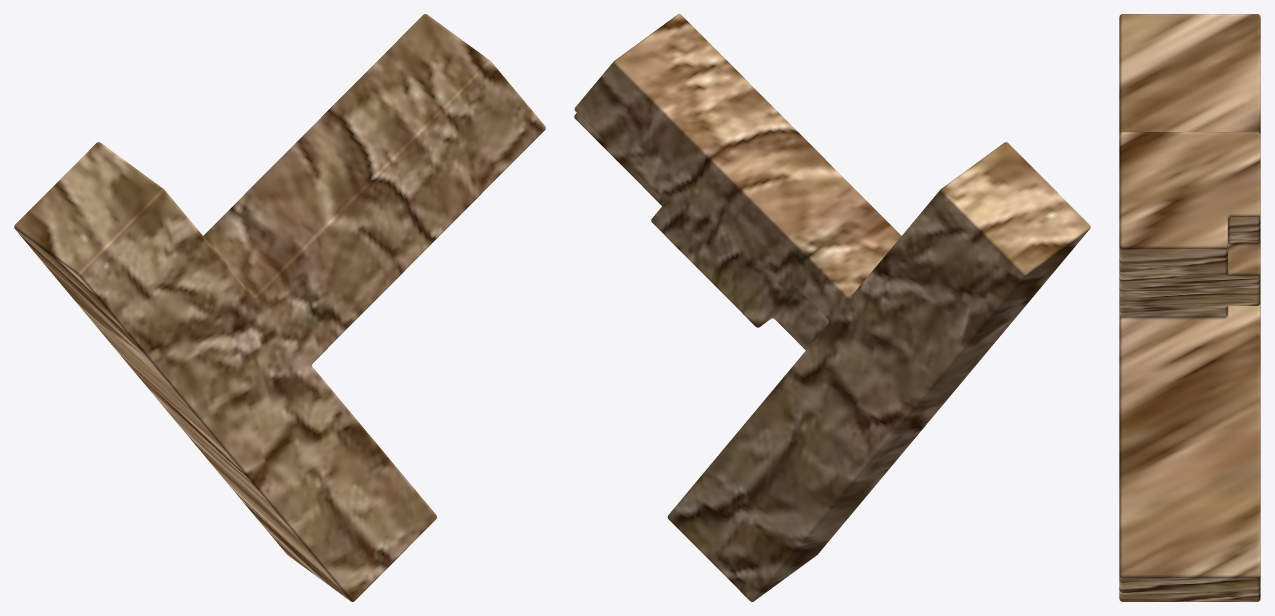
The model's file is MiralmonteGordo.obj.
3 views of the same model, side by side, from view 1: azimuth 30°, elevation 25°; view 2: azimuth 150°, elevation 25°; view 3: azimuth 270°, elevation 25° (orthographic). The views are drawn at different scales.
Visible parts, largest first — view 1: Object.1; view 2: Object.1; view 3: Object.1.
Boxes of the visible parts, x1,y1,x2,y2 form: Object.1: (14,14,545,601); Object.1: (574,14,1090,601); Object.1: (1119,14,1260,601).
Bounding box in the file's own units: 52919 × 54932 × 13000.
1 material, 1 textured.
